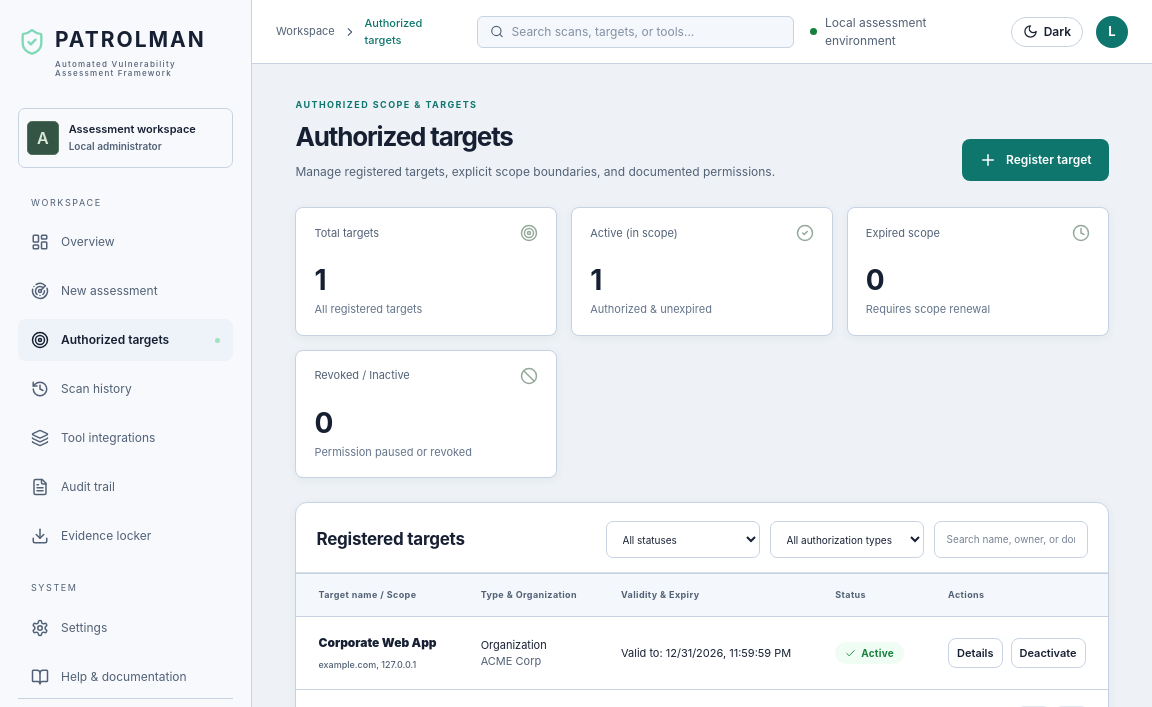
Test: Authorized Targets Management › opens target details modal and renders scope and audit history
Click the button "Details" at (975, 653), box [948,638,1002,668]
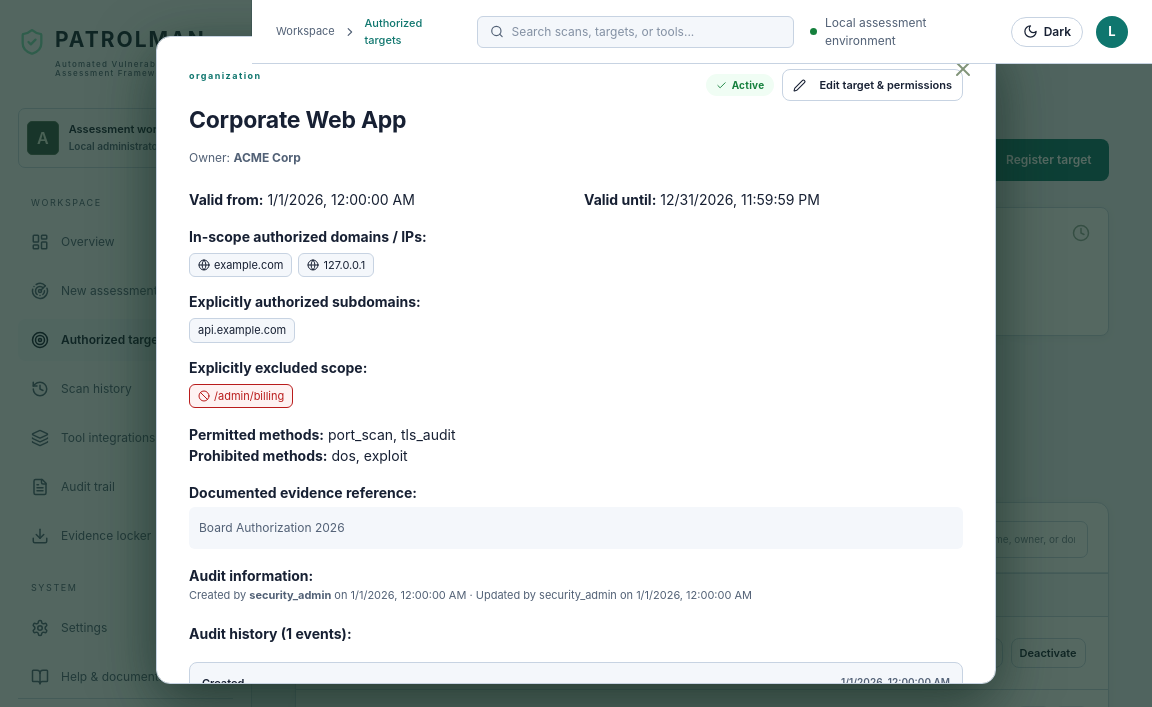
Result: the dialog named "Target Details" is shown
Result: the text "Board Authorization 2026" is shown at [189,507,963,549]
Result: the text "Audit history (1 events):" is shown at [189,626,352,642]
